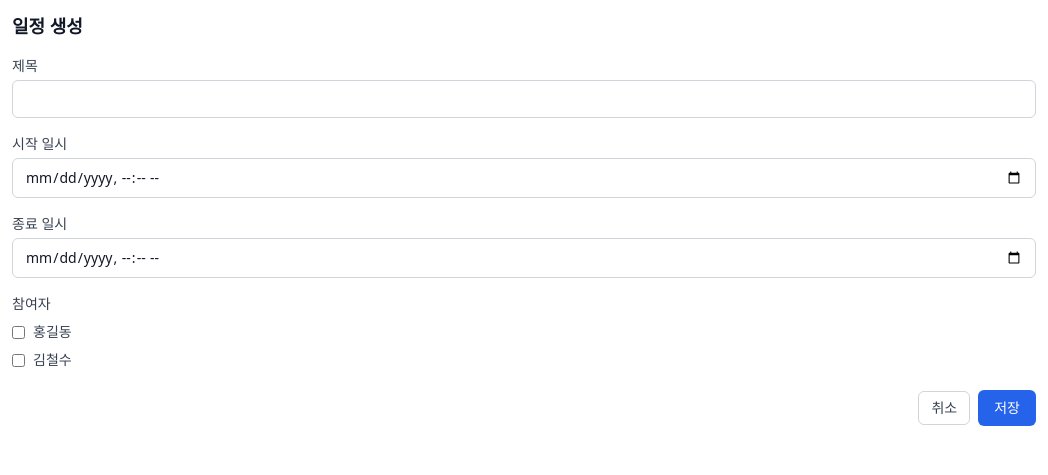
it: ScheduleForm - 생성 모드 정상 제출 › createSchedule이 400으로 실패하면 서버 에러 메시지를 표시한다
Type "주간 회의" into the field labelled "제목" at (524,99), box [12,80,1036,118]
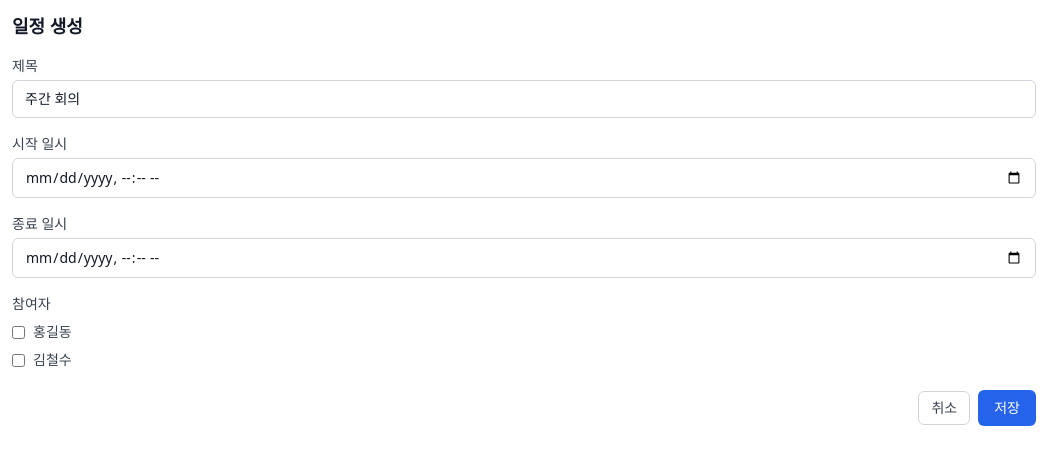
Type "2026-04-15T09:00" into the field labelled "시작 일시" at (524,178), box [12,158,1036,198]
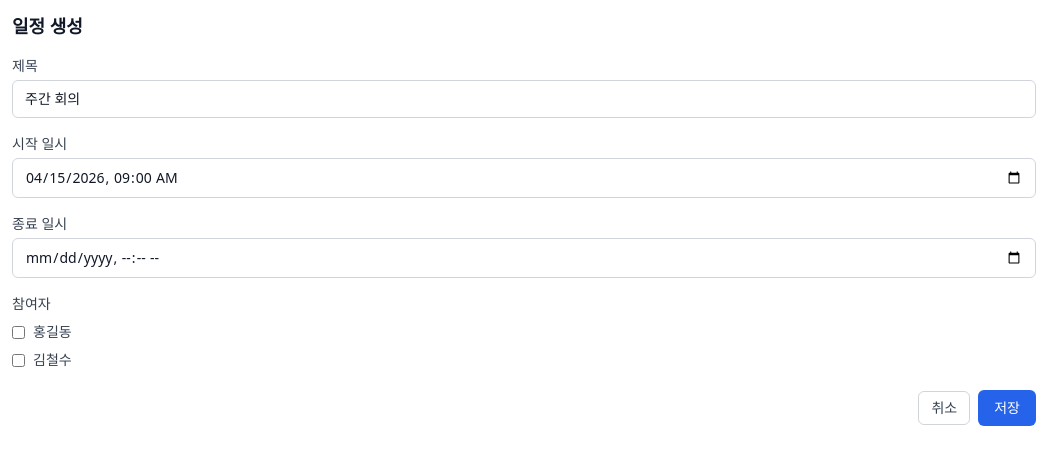
Type "2026-04-15T10:00" into the field labelled "종료 일시" at (524,258), box [12,238,1036,278]
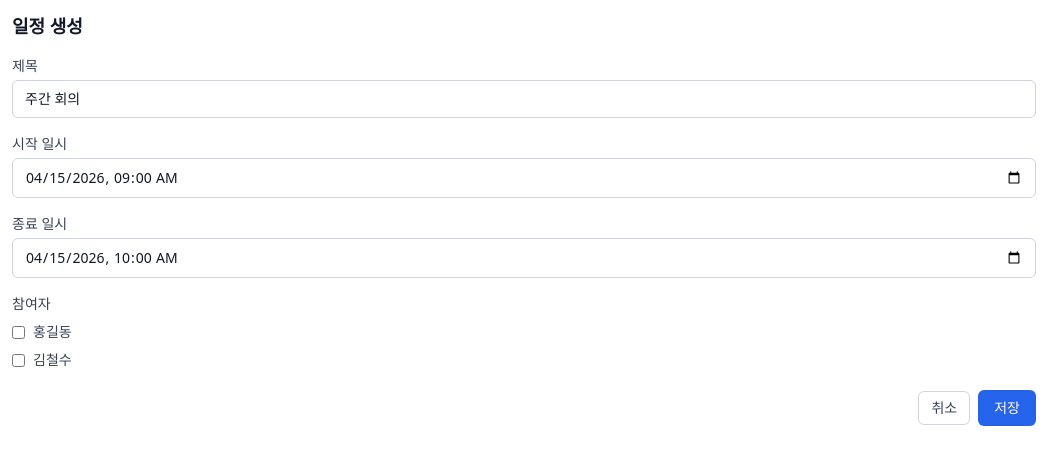
Submit the form
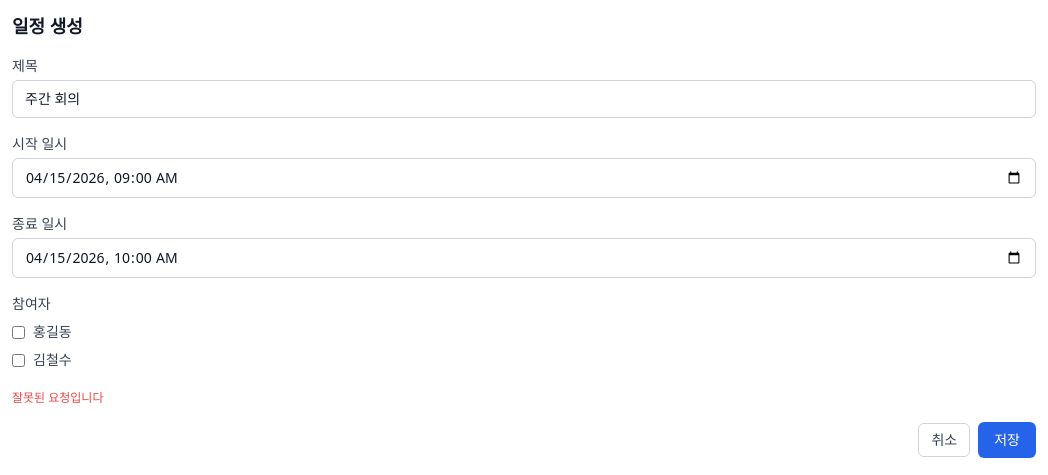
Expected: the text "잘못된 요청입니다" is shown, [12,389,104,406]
